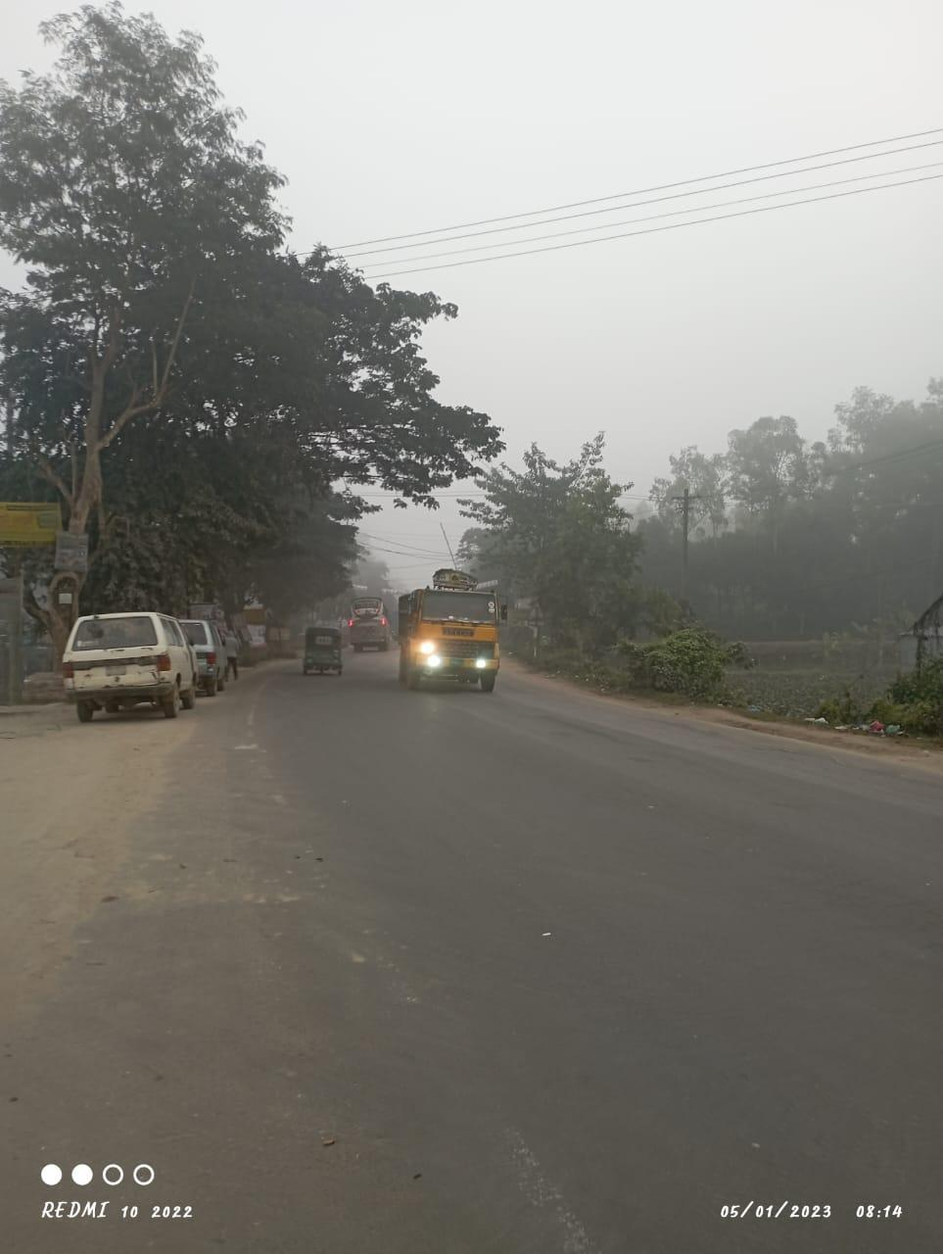Bus: (341, 591, 392, 655)
Car: (47, 601, 201, 726)
Truck: (390, 572, 514, 693)
